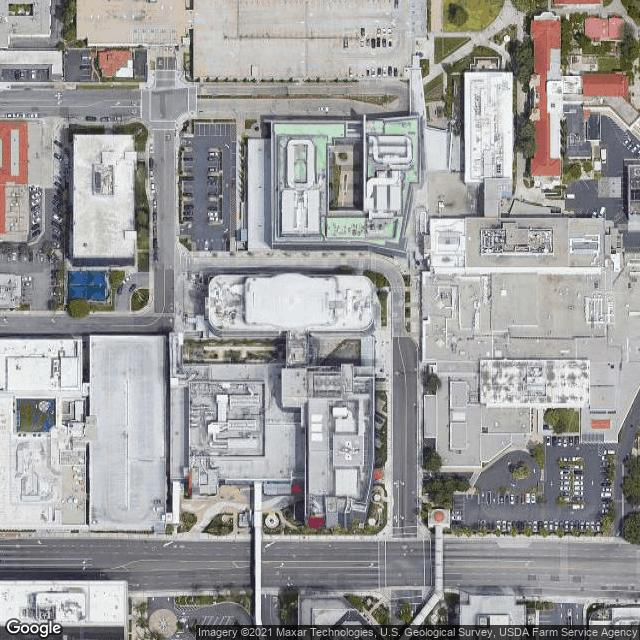Helipad: (332, 435, 364, 463)
